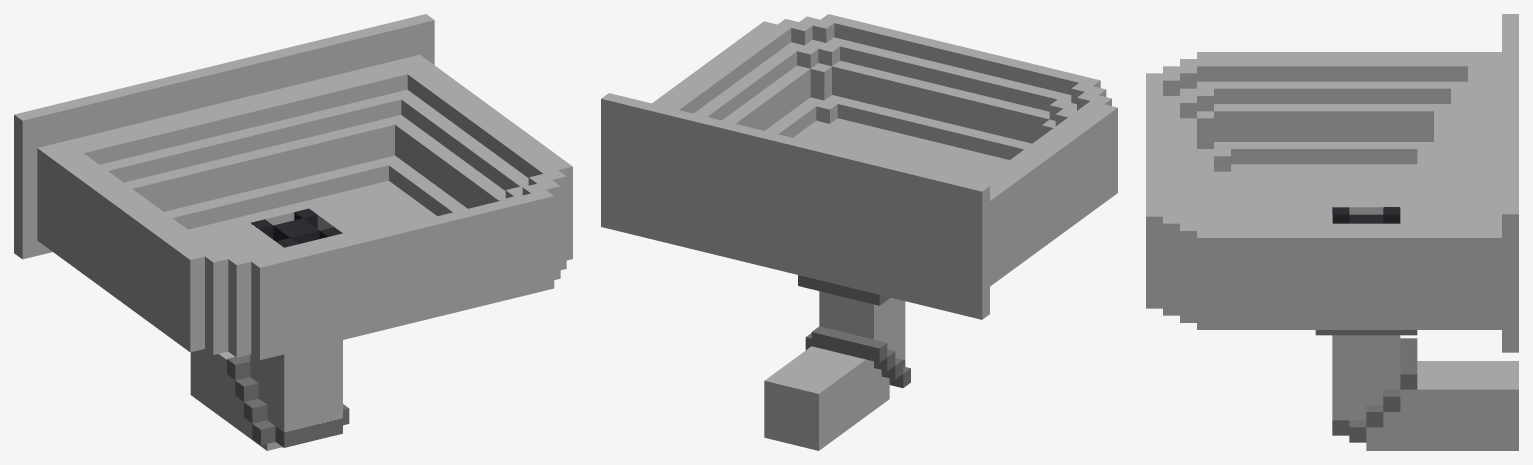
File: zlew.dae
3 renders of one model, left to right at view 1: azimuth 30°, elevation 25°; view 2: azimuth 150°, elevation 25°; view 3: azimuth 270°, elevation 25°, orthographic. The views are drawn at different scales.
Visible parts, largest first — view 1: Content; view 2: Content; view 3: Content.
Part boxes in pixels (x1,y1,x2,y2): Content: (14, 14, 572, 450); Content: (601, 14, 1117, 450); Content: (1146, 14, 1518, 450).
Size of the model in its own units: 28 by 21 by 22.
Materials: 1 (1 with a texture image).
